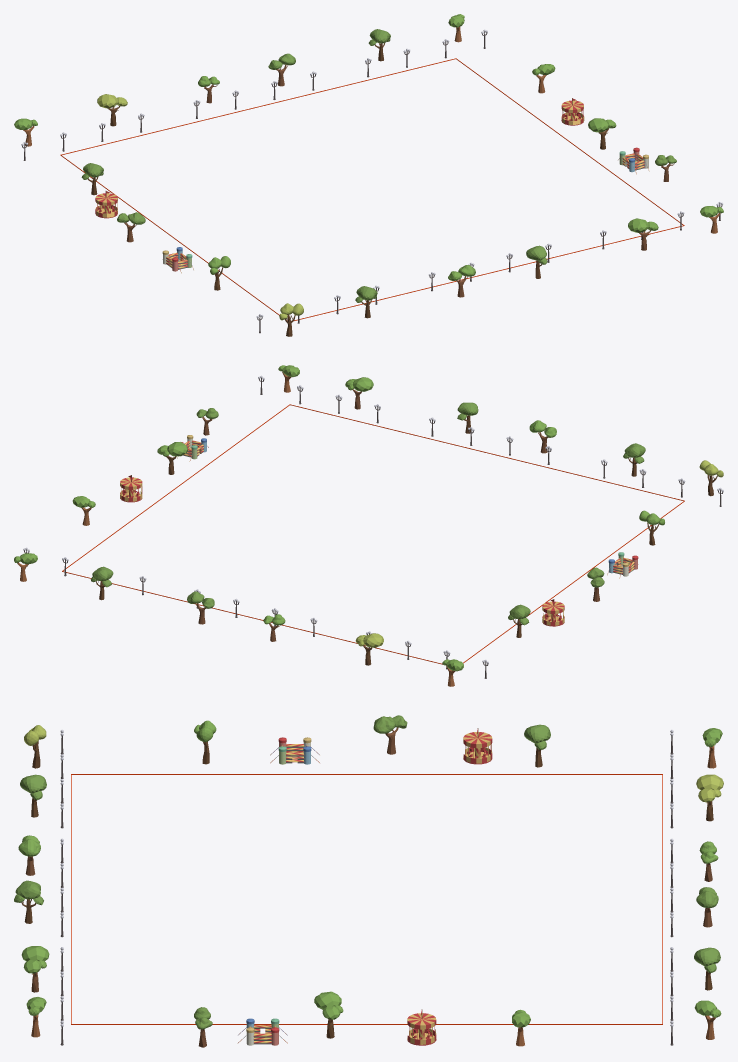
File: EnvNoColliders.fbx
3 renders of one model, top to bottom at view 1: azimuth 30°, elevation 25°; view 2: azimuth 150°, elevation 25°; view 3: azimuth 270°, elevation 25°, orthographic. The views are drawn at different scales.
Parts seen in each view (by area): view 1: Border, Lamp, Env, Env19; view 2: Border, Lamp, Env, Env19; view 3: Border, Lamp, Env19, Env, Env20, Env21, Env7, Env16, Env2, Env14, Env1, Env10 (+2 smaller).
Part boxes in pixels (bbox=[...]): Border: bbox=[60, 58, 684, 320]; Lamp: bbox=[21, 29, 722, 333]; Env: bbox=[561, 98, 584, 125]; Env19: bbox=[95, 191, 117, 218]; Border: bbox=[62, 404, 684, 664]; Lamp: bbox=[23, 375, 723, 678]; Env: bbox=[120, 475, 142, 502]; Env19: bbox=[542, 599, 564, 626]; Border: bbox=[71, 774, 662, 1024]; Lamp: bbox=[60, 729, 673, 1045]; Env19: bbox=[463, 728, 492, 764]; Env: bbox=[407, 1009, 436, 1045]; Env20: bbox=[237, 1018, 287, 1045]; Env21: bbox=[270, 737, 319, 764]; Env7: bbox=[696, 774, 723, 821]; Env16: bbox=[21, 946, 49, 992]; Env2: bbox=[314, 991, 343, 1038]; Env14: bbox=[14, 880, 43, 923]; Env1: bbox=[373, 715, 407, 754]; Env10: bbox=[694, 947, 720, 990].
Bounding box in the file's own units: 1964 × 123 × 1925.
